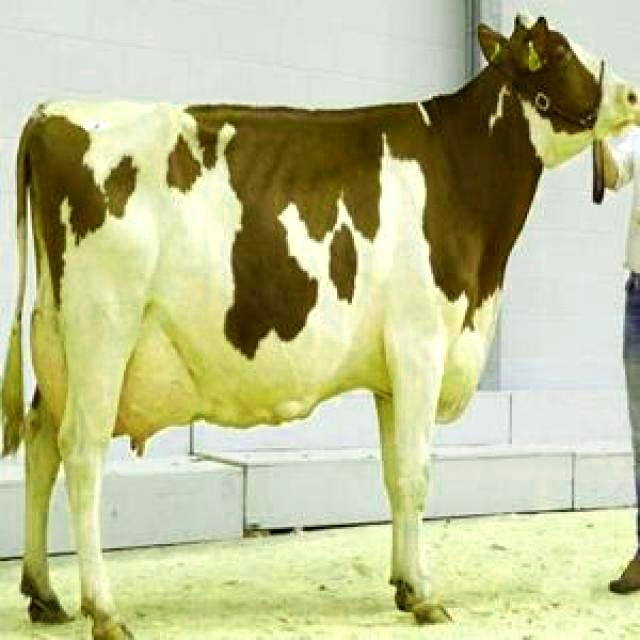COW: (2, 19, 640, 640)
